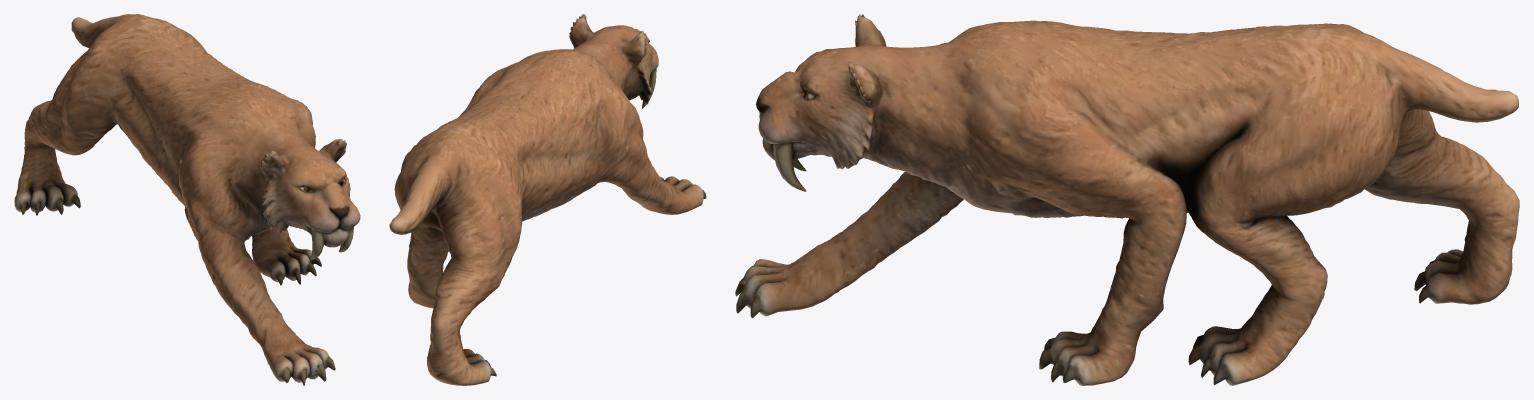
Rendered from MZ4250 - Sabre Toothed Tiger.glb.
3 views of the same model, side by side, from view 1: azimuth 30°, elevation 25°; view 2: azimuth 150°, elevation 25°; view 3: azimuth 270°, elevation 25° (orthographic). The views are drawn at different scales.
Visible parts, largest first — view 1: Saber-Toothed Tiger.001; view 2: Saber-Toothed Tiger.001; view 3: Saber-Toothed Tiger.001.
Part boxes in pixels (x1,y1,x2,y2): Saber-Toothed Tiger.001: (14, 14, 360, 385); Saber-Toothed Tiger.001: (389, 14, 706, 385); Saber-Toothed Tiger.001: (735, 14, 1519, 385).
Bounding box in the file's own units: 16.53 × 19.61 × 45.84.
Materials: 1 (1 with a texture image).
